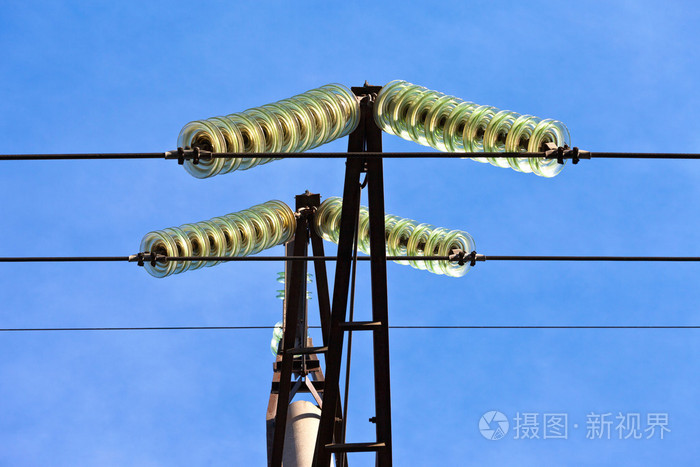insulator: (375, 78, 574, 178), (177, 82, 357, 178), (316, 196, 473, 279), (140, 200, 294, 278)
